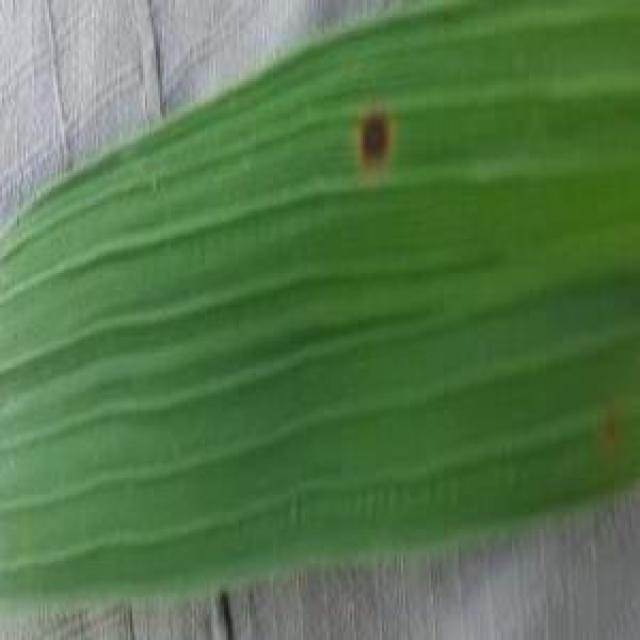Brown_Spot: (344, 106, 401, 172)
